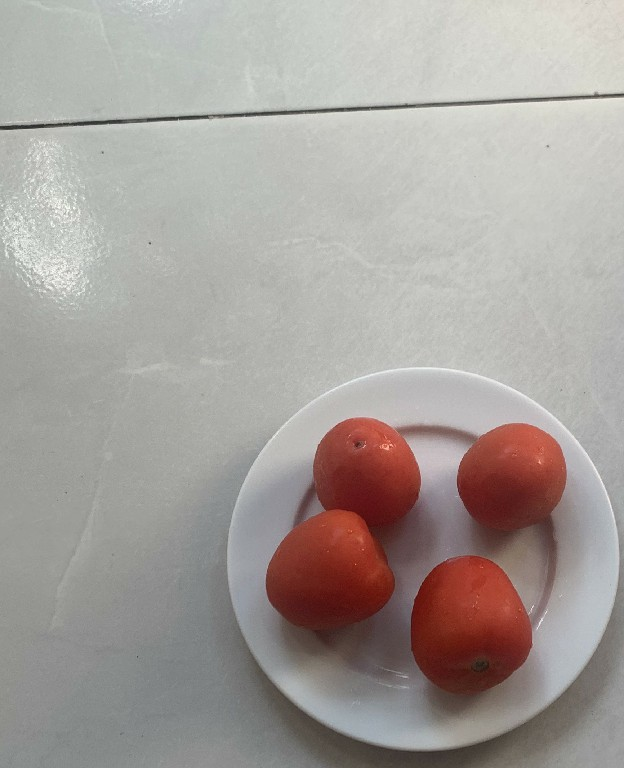OK: (405, 546, 534, 704), (265, 508, 398, 630), (451, 412, 567, 540), (304, 410, 424, 529)
